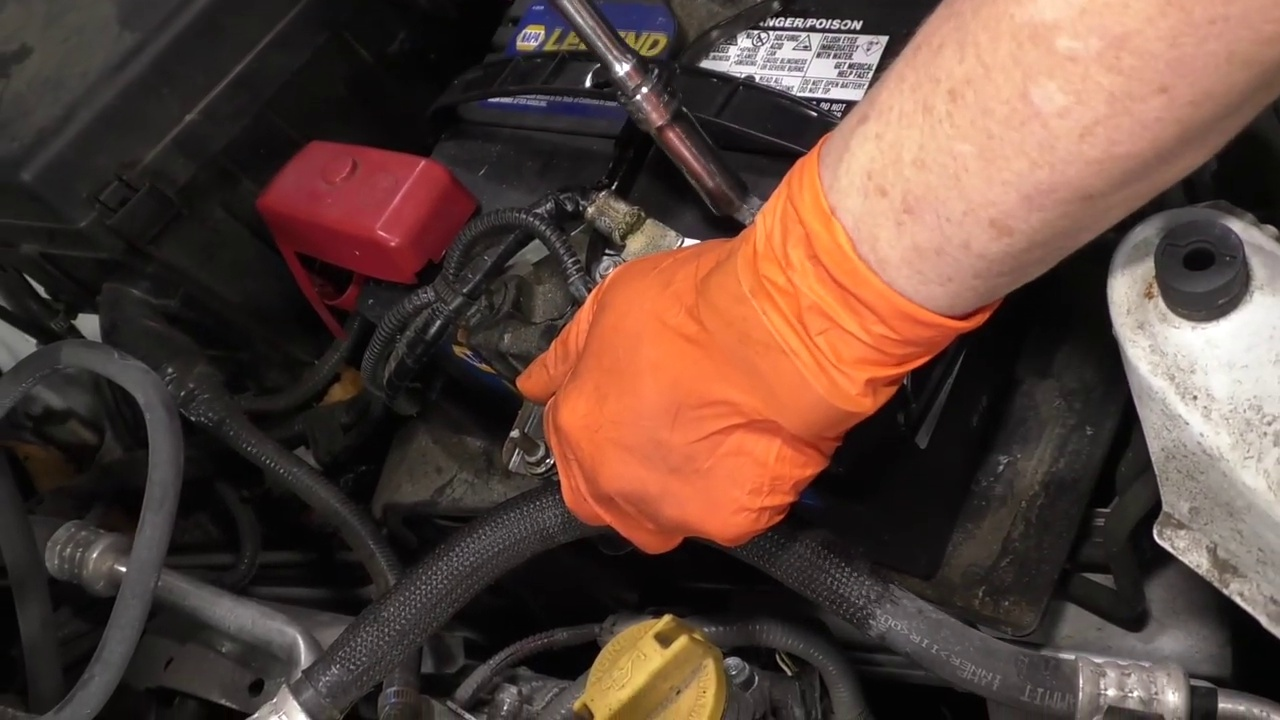battery: (342, 1, 939, 410)
pos_connected: (235, 134, 489, 363)
